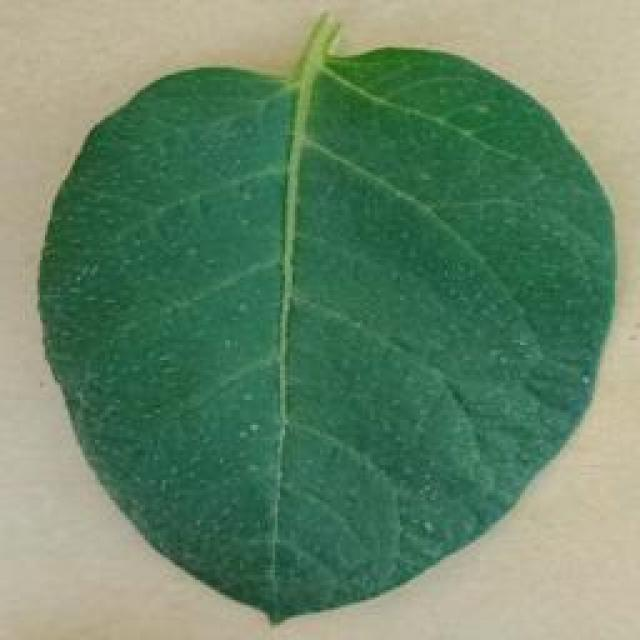Potato_Healthy: (37, 16, 609, 626)
